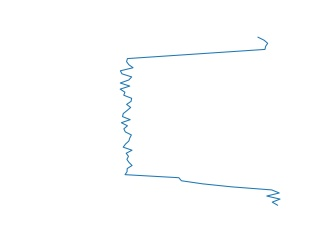distributaryChannelFill: (116, 37, 285, 210)
